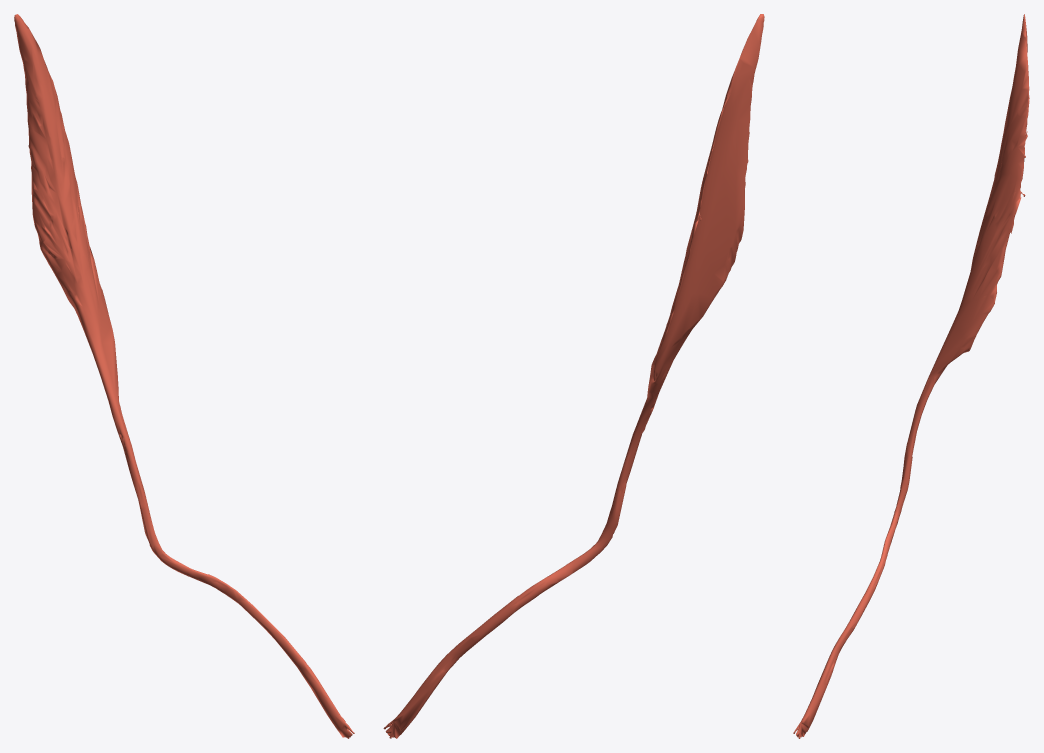
File: flexor-pollicis-longus.glb
The picture shows the model from 3 angles, left to right: view 1: azimuth 30°, elevation 25°; view 2: azimuth 210°, elevation 25°; view 3: azimuth 270°, elevation 25°; orthographic projection. The views are drawn at different scales.
Parts seen in each view (by area): view 1: Flexor pollicis longus.l; view 2: Flexor pollicis longus.l; view 3: Flexor pollicis longus.l.
Part boxes in pixels (x1,y1,x2,y2): Flexor pollicis longus.l: [14, 14, 354, 738]; Flexor pollicis longus.l: [383, 14, 764, 738]; Flexor pollicis longus.l: [793, 14, 1029, 738].
Size of the model in its own units: 0.078 by 0.2381 by 0.0809.
